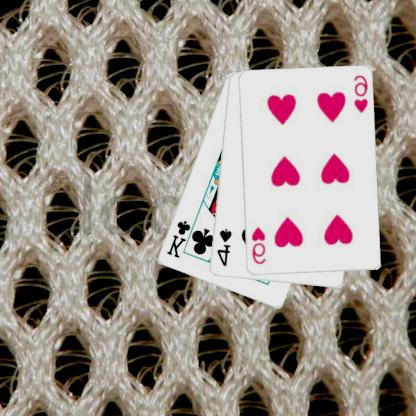4S: (216, 226, 234, 268)
6H: (353, 72, 371, 115), (250, 224, 268, 266)
KC: (166, 218, 199, 260)
